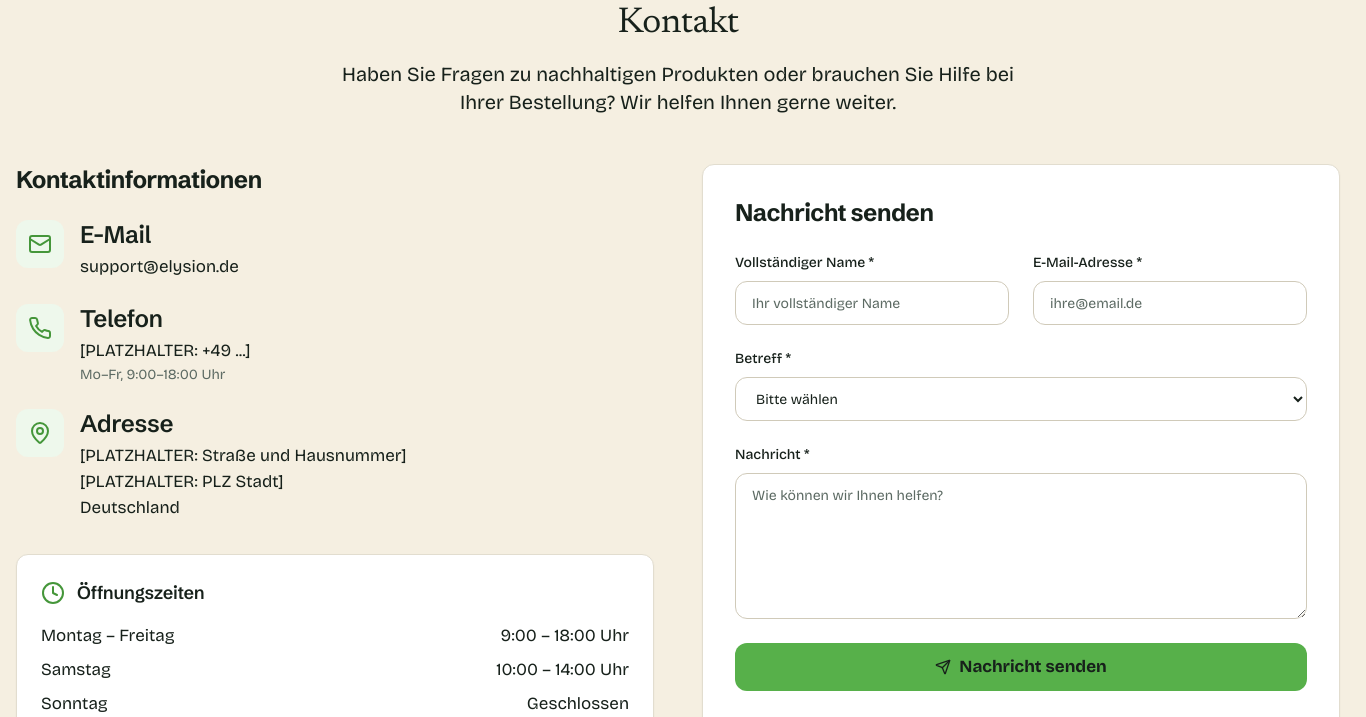
Test case: Contact — POST /api/v1/contact (#120) › confirms with the reference number and clears the form on forwarded=true
Type "Max Mustermann" into the field labelled "Vollständiger Name *" at (872, 303), box [735,281,1009,325]
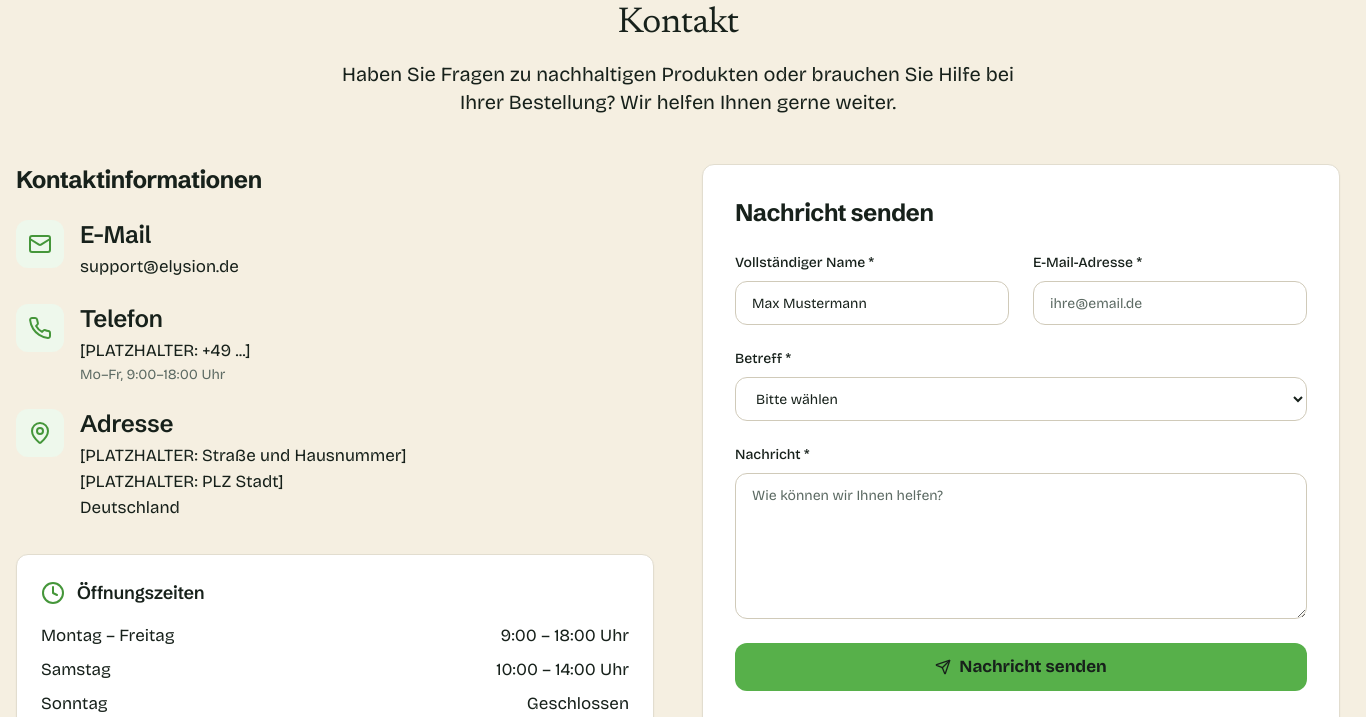
Type "max@example.com" into the field labelled "E-Mail-Adresse *" at (1170, 303), box [1033,281,1307,325]
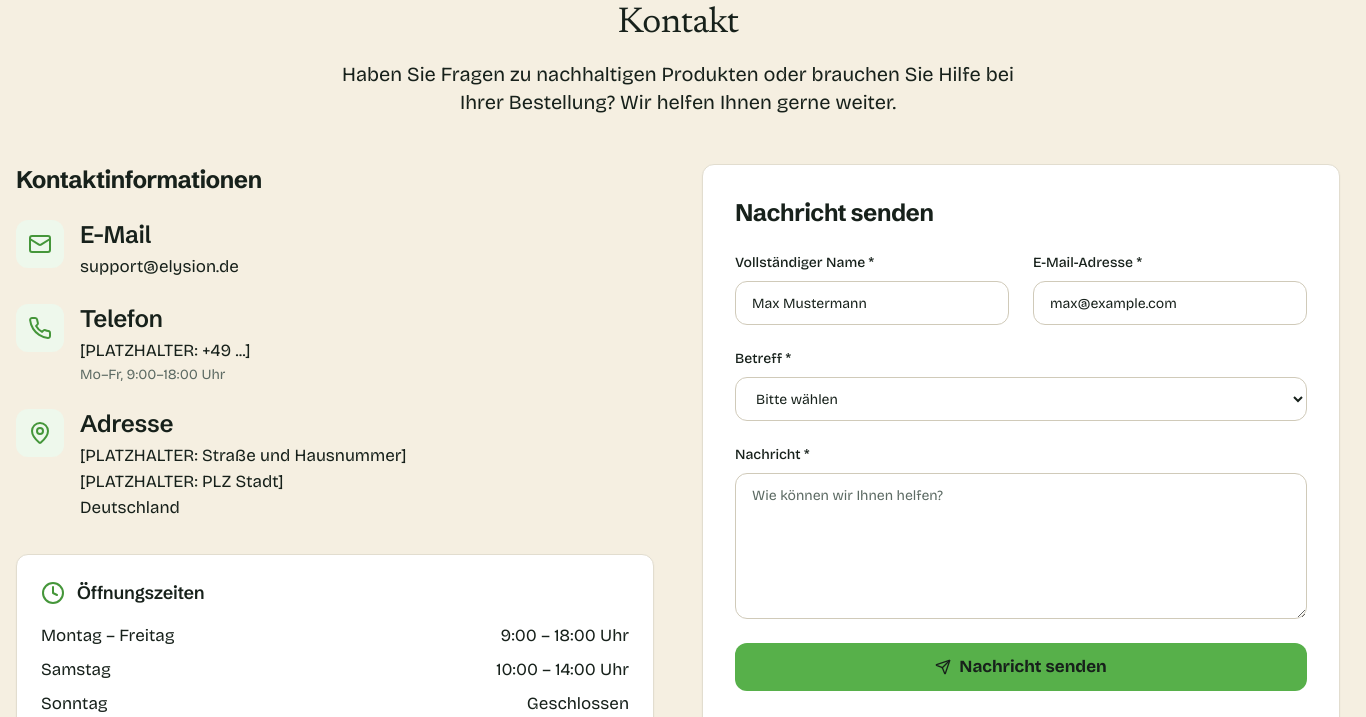
Select "Hilfe bei einer Bestellung" in the dropdown labelled "Betreff *" at (1021, 399), box [735,377,1307,421]
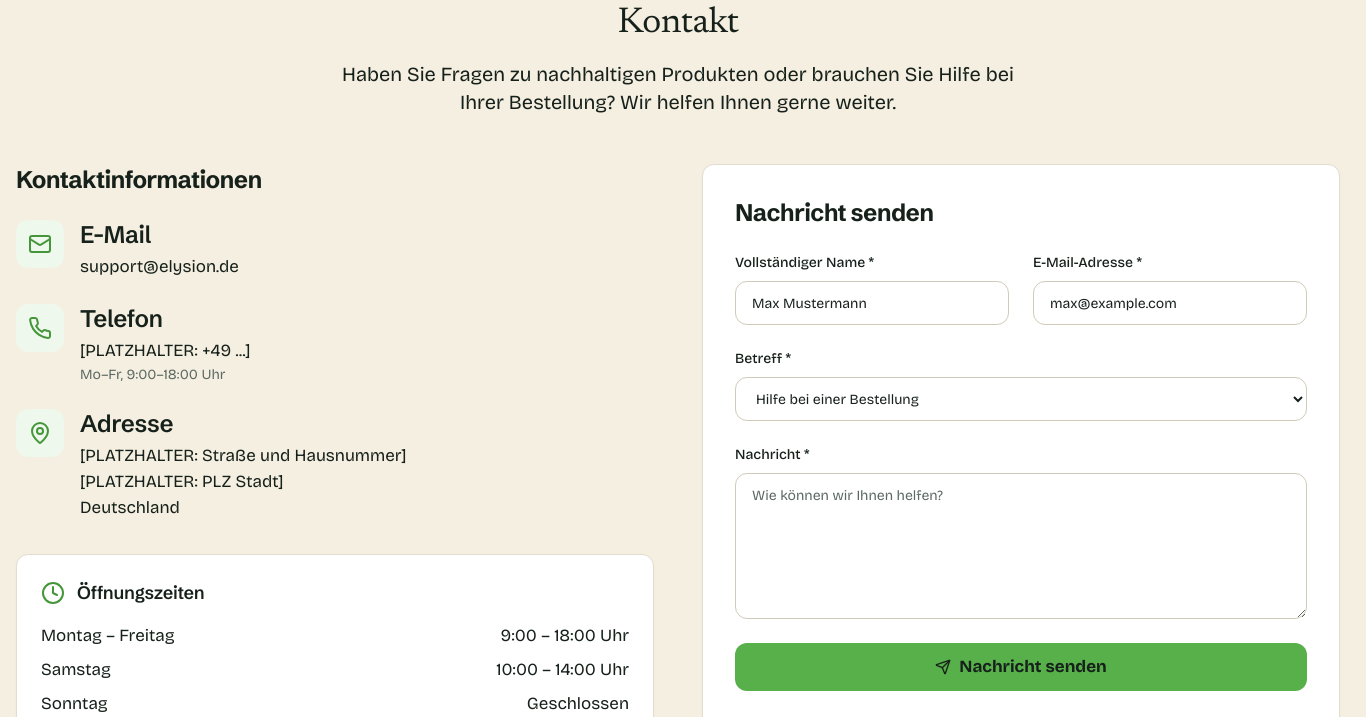
Type "Wo ist meine Bestellung?" into the text box labelled "Nachricht *" at (1021, 546), box [735,473,1307,619]
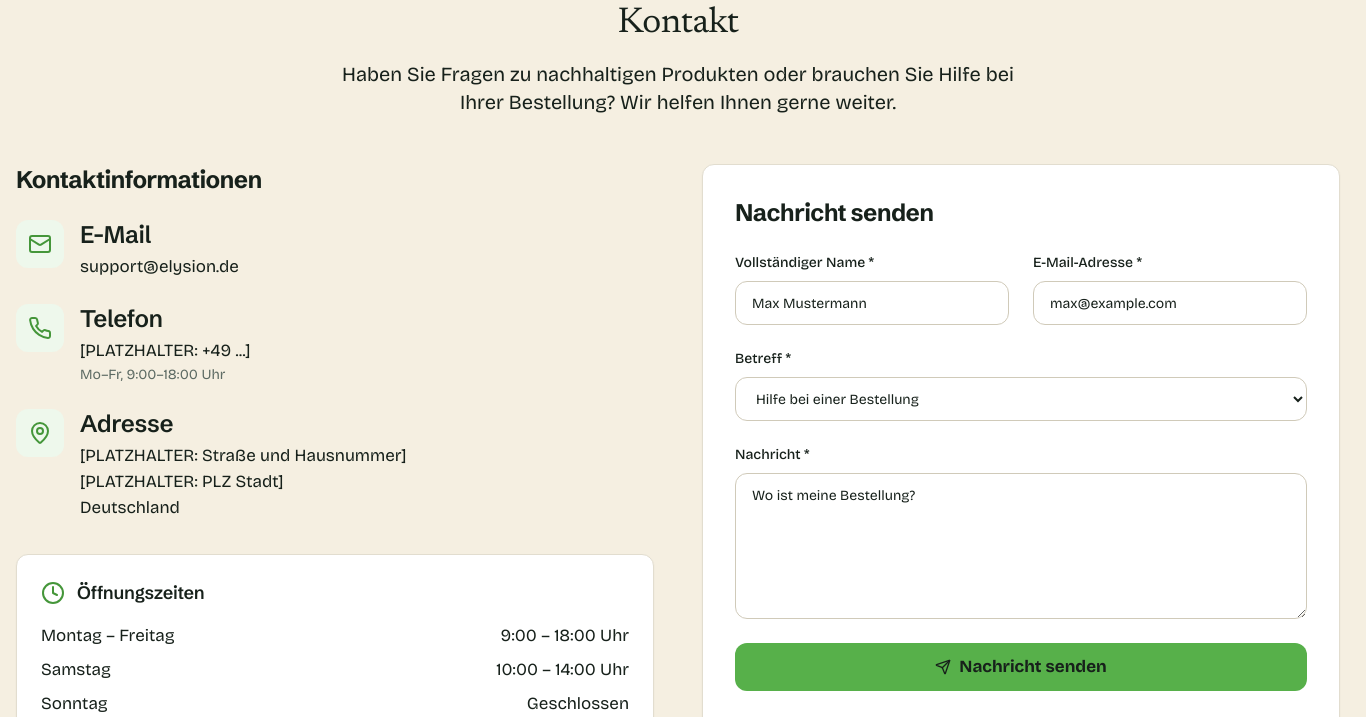
Click the button "Nachricht senden" at (1021, 667), box [735,643,1307,691]
(page scrolled)
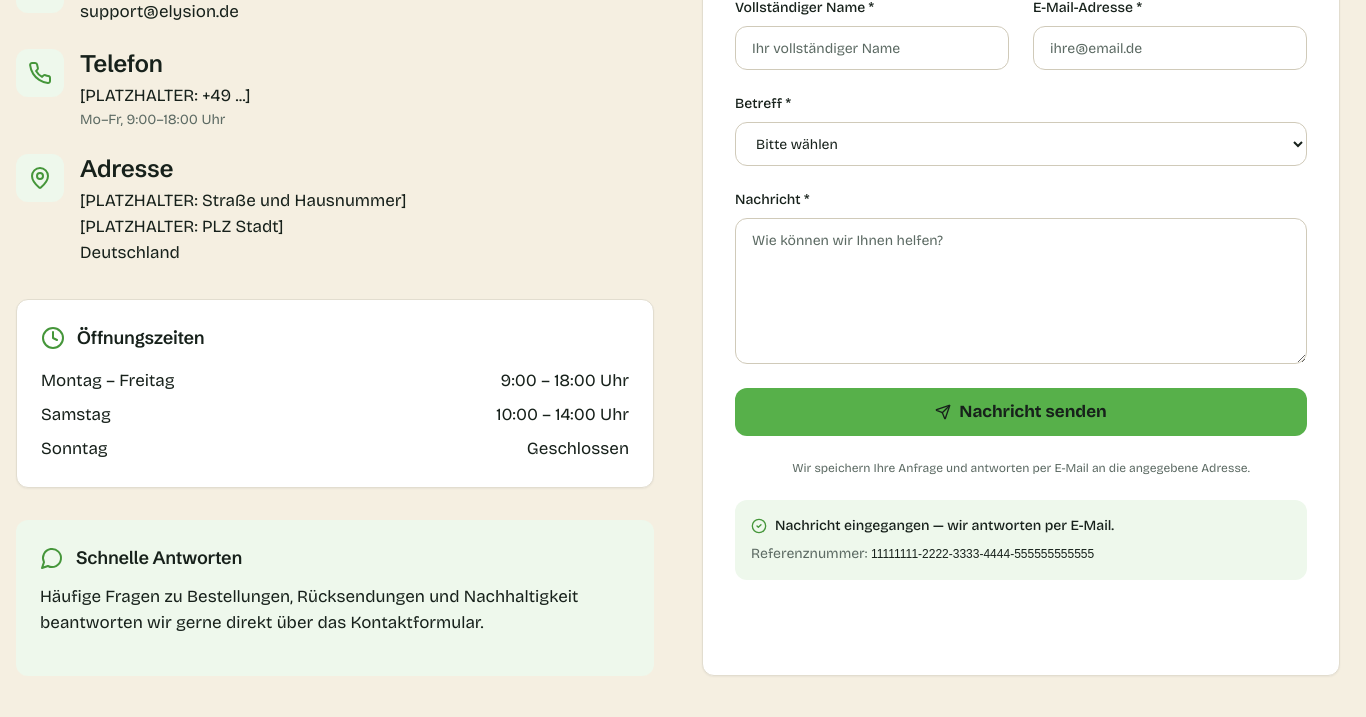
Expected: the text box labelled "Nachricht *" is empty, [735,218,1307,364]
Expected: the message shows "11111111-2222-3333-4444-555555555555", [871,547,1094,561]
